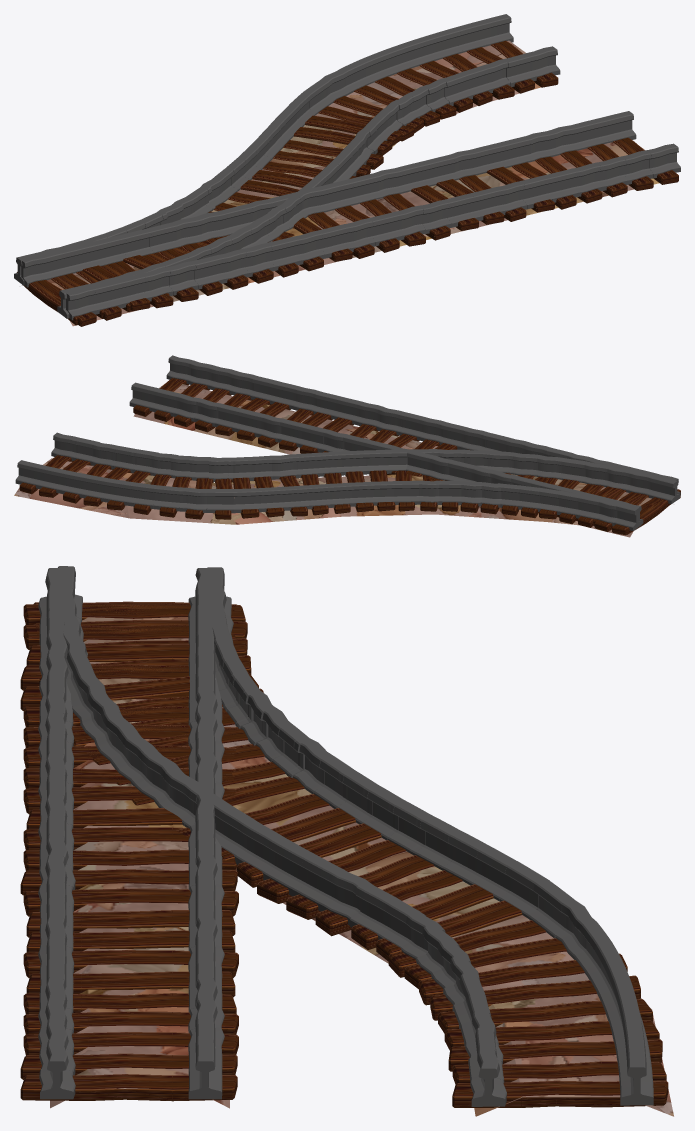
File: Rail_Fork.fbx
3 views of the same model, one above another, from view 1: azimuth 30°, elevation 25°; view 2: azimuth 150°, elevation 25°; view 3: azimuth 270°, elevation 25° (orthographic). The views are drawn at different scales.
Visible parts, largest first — view 1: ForkTrack; view 2: ForkTrack; view 3: ForkTrack.
Boxes of the visible parts, x1,y1,x2,y2 form: ForkTrack: (14,14,680,326); ForkTrack: (14,355,680,537); ForkTrack: (20,566,673,1116).
Size of the model in its own units: 1120 by 55.21 by 615.
Materials: 3 (2 with a texture image).
